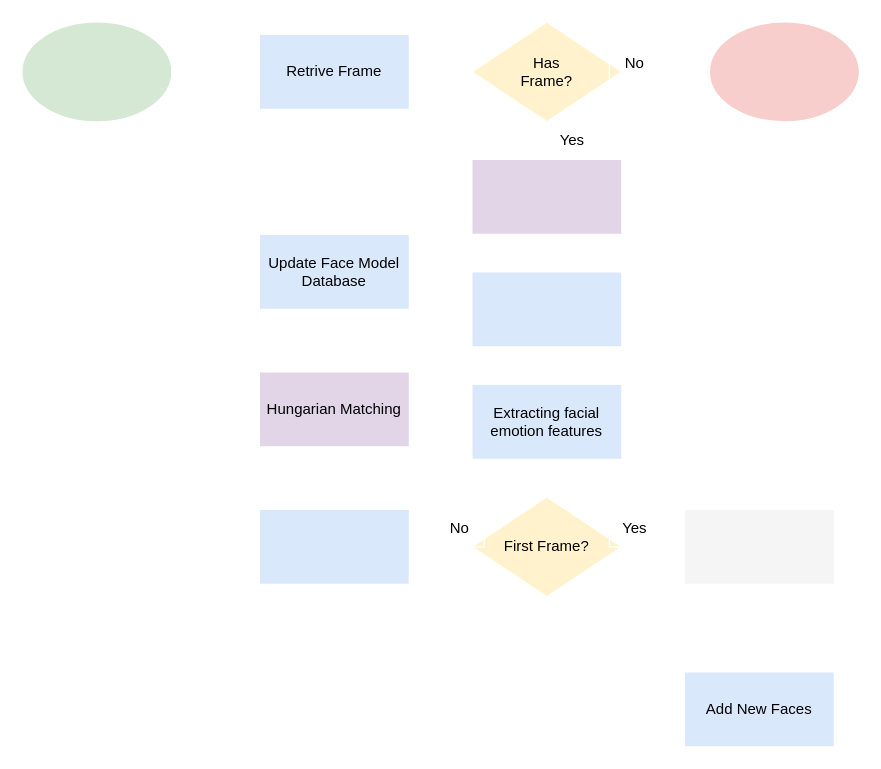
The diagram is 881 pixels wide and 769 high, and some of its shapes have lost their labels. Here are the shapes that lost their labels. From the top down, the box of each, then its label:
(21, 21, 172, 122): Start Video Or Camera
(708, 21, 859, 122): End
(471, 158, 622, 234): Face Detection using Yolo trained on Head Dataset
(471, 271, 622, 347): Face Feature Extraction
(258, 508, 409, 584): Build Cost Matrix for Hungarian Matching
(683, 508, 834, 584): Initialize Face Model Database
